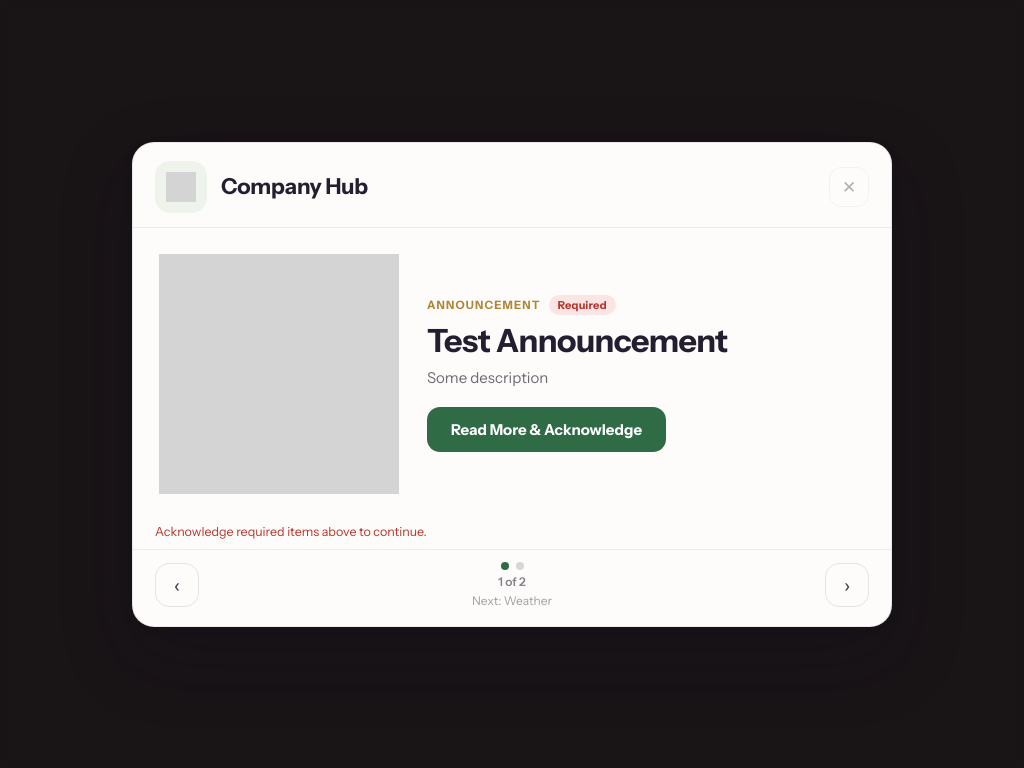
it: CompanyHub › leaves Enter Office and the required-item block alone
The image size is (1024, 768).
expect the button named "Enter Office" is disabled: met, box [829,166,869,206]
Click the button named "Next item". click: point(847, 584)
box: [825,562,869,606]
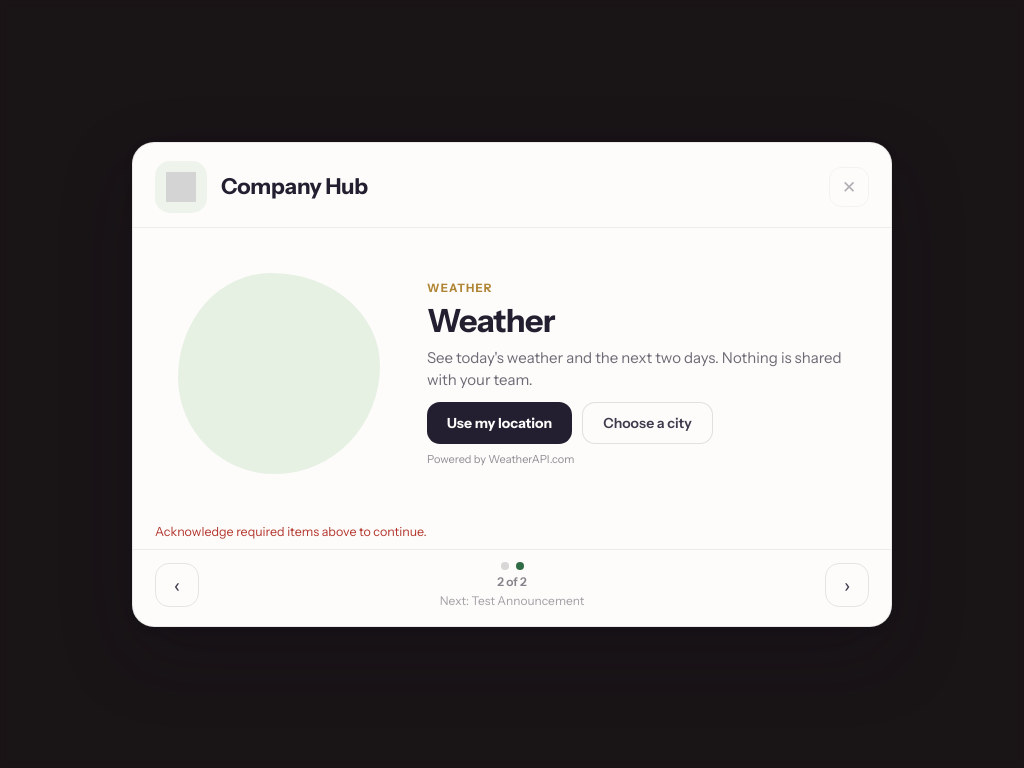
expect the button named "Enter Office" is disabled: met, box [829,166,869,206]
expect the number of elements named "Weather forecast" is 1: met, box [155,232,869,516]
